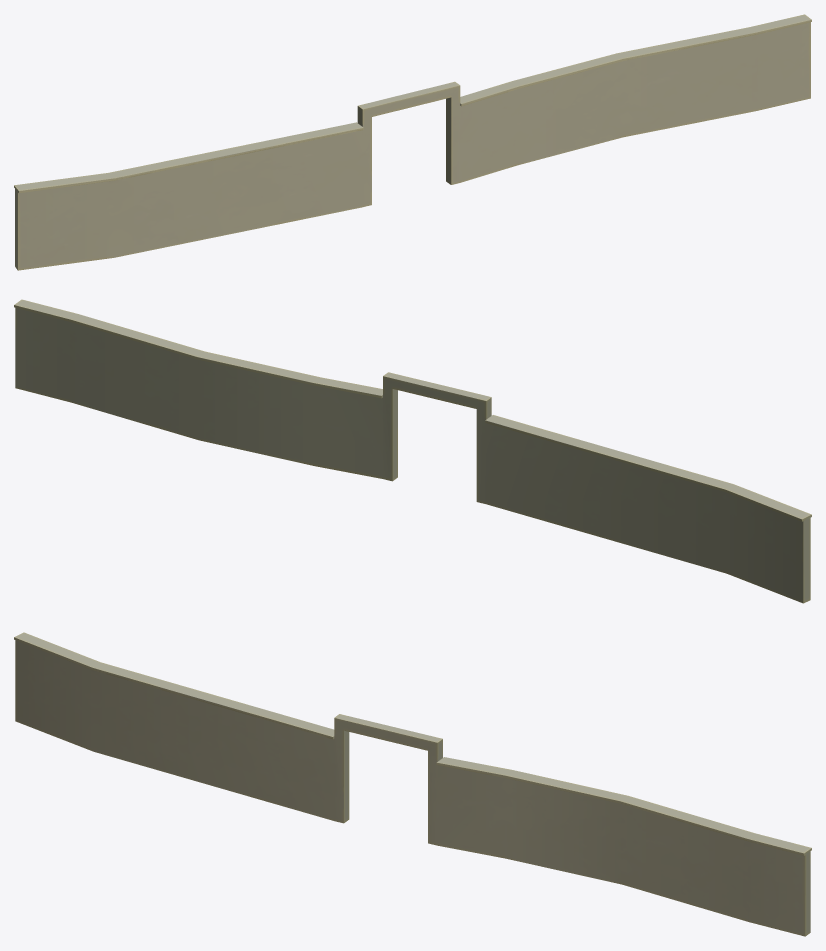
Rendered from Zone2gatewall_high.fbx.
The picture shows the model from 3 angles, top to bottom: view 1: azimuth 30°, elevation 25°; view 2: azimuth 150°, elevation 25°; view 3: azimuth 330°, elevation 25°; orthographic projection. The views are drawn at different scales.
Parts seen in each view (by area): view 1: wallzone2entrance_LOW; view 2: wallzone2entrance_LOW; view 3: wallzone2entrance_LOW.
Boxes of the visible parts, bbox=[...] form: wallzone2entrance_LOW: bbox=[14, 14, 811, 270]; wallzone2entrance_LOW: bbox=[14, 299, 811, 603]; wallzone2entrance_LOW: bbox=[14, 632, 811, 936].
Size of the model in its own units: 4130 by 501 by 272.
1 material, 1 textured.
